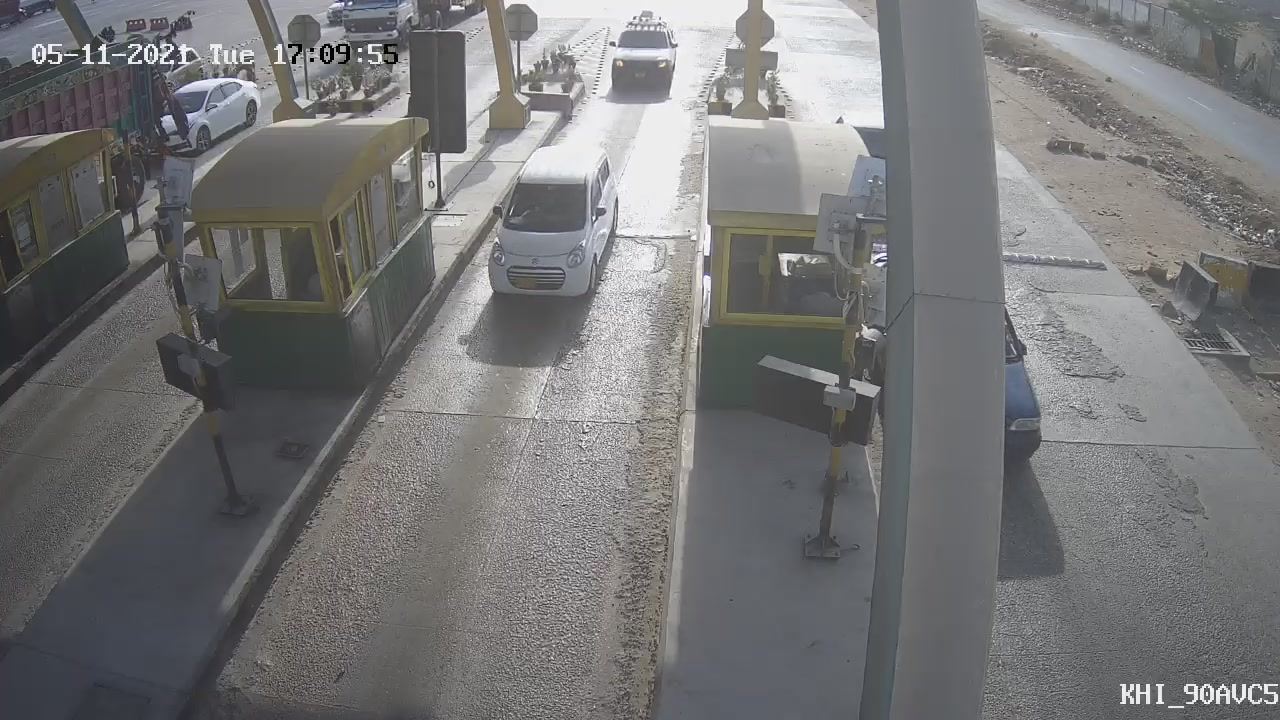F1: (468, 130, 635, 321)
